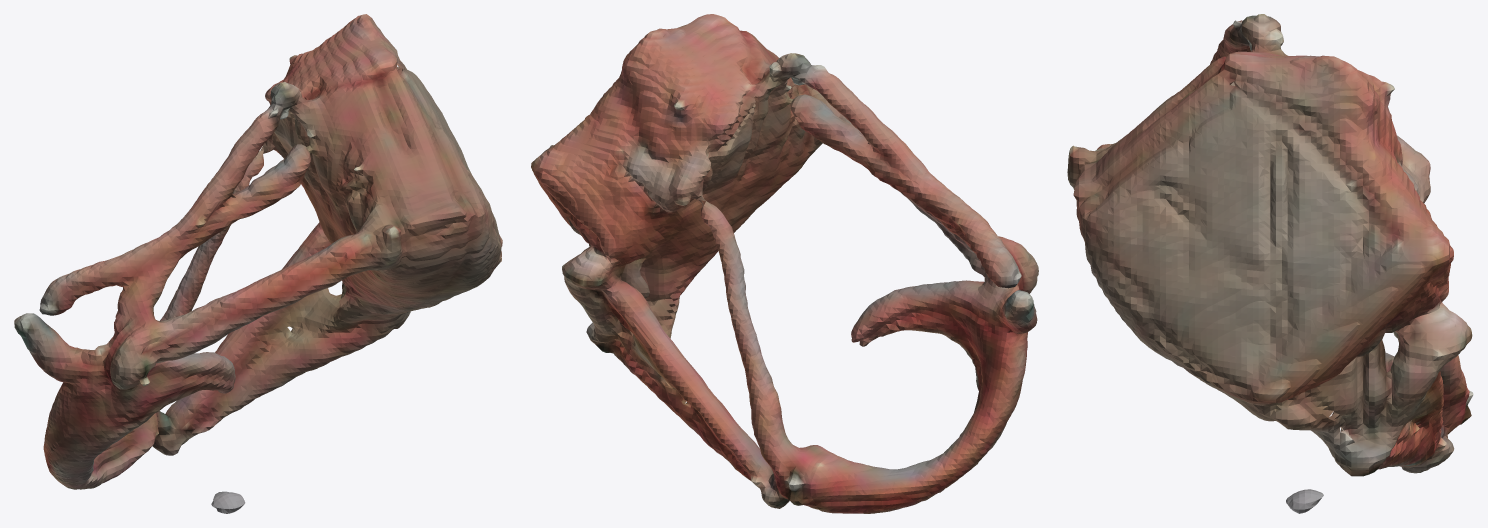
Rendered from triposr.glb.
The picture shows the model from 3 angles, left to right: view 1: azimuth 30°, elevation 25°; view 2: azimuth 150°, elevation 25°; view 3: azimuth 270°, elevation 25°; orthographic projection. The views are drawn at different scales.
Parts seen in each view (by area): view 1: world; view 2: world; view 3: world.
Boxes of the visible parts, left/top/right/bottom form: world: left=14, top=14, right=502, bottom=513; world: left=531, top=14, right=1038, bottom=513; world: left=1067, top=14, right=1473, bottom=513.
Size of the model in its own units: 0.7763 by 0.7019 by 0.478.
